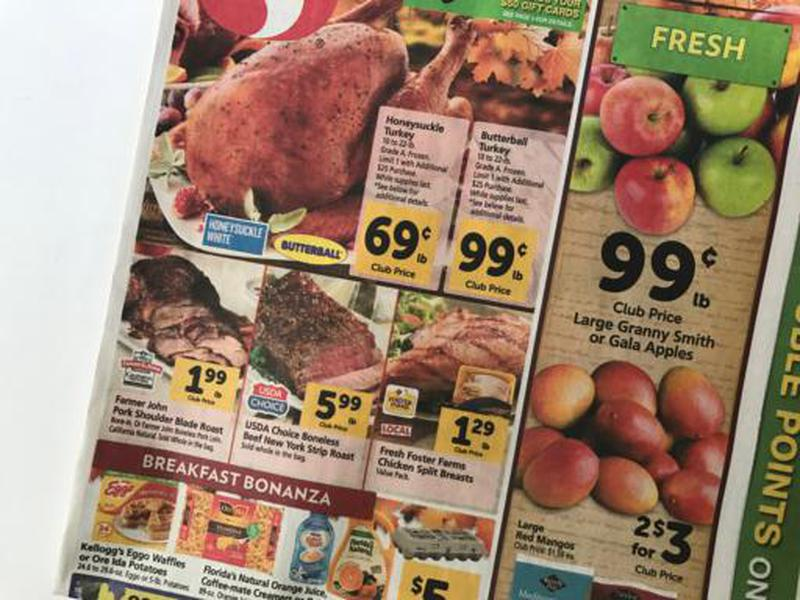paper: (52, 2, 799, 600)
